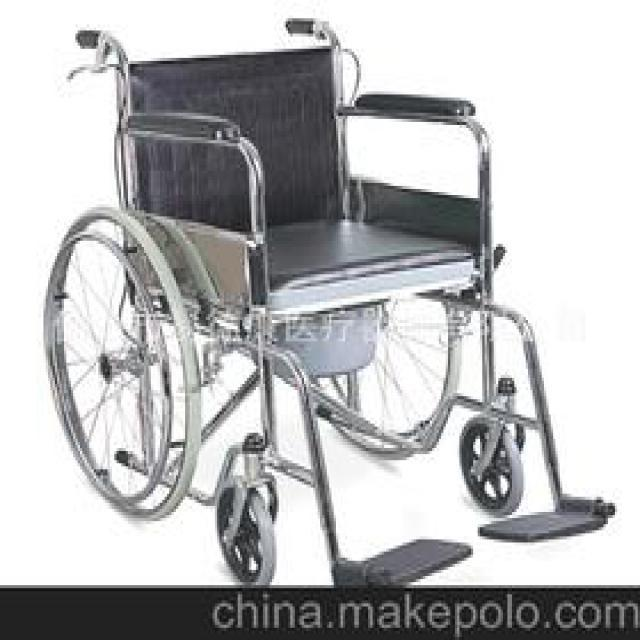wheelchair: (16, 12, 615, 576)
